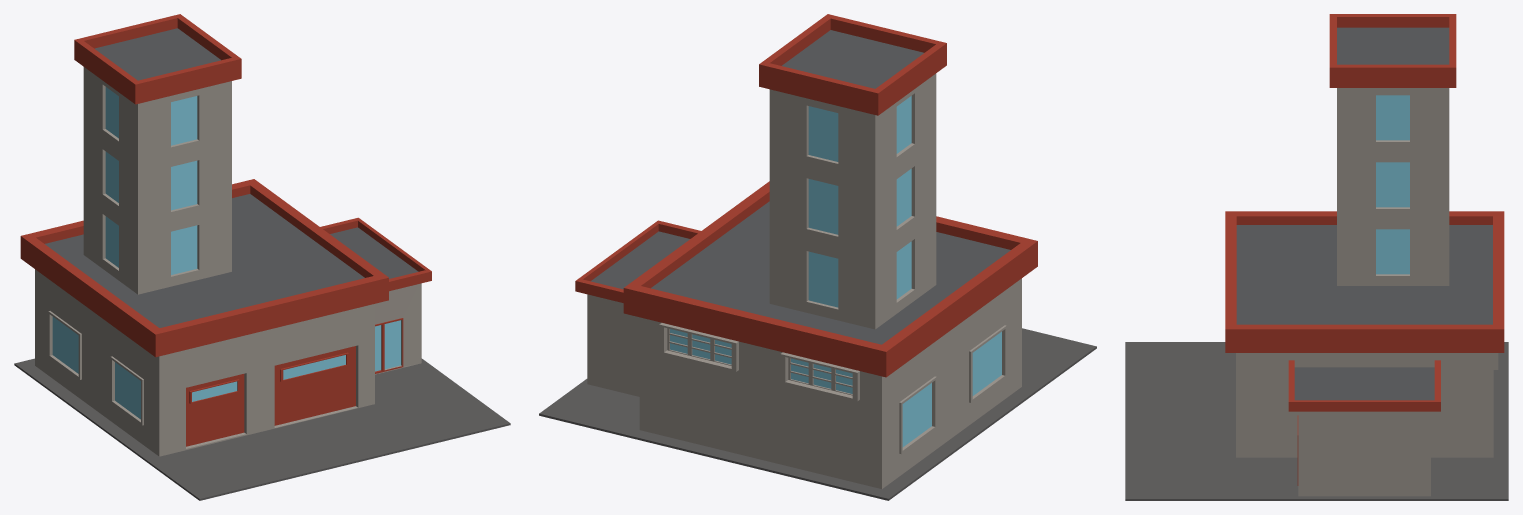
The model's file is SM_Garage_02.gltf.
3 renders of one model, left to right at view 1: azimuth 30°, elevation 25°; view 2: azimuth 150°, elevation 25°; view 3: azimuth 270°, elevation 25°, orthographic. The views are drawn at different scales.
Visible parts, largest first — view 1: SM_Garage_02; view 2: SM_Garage_02; view 3: SM_Garage_02.
Boxes of the visible parts, bbox=[...] form: SM_Garage_02: bbox=[14, 14, 510, 500]; SM_Garage_02: bbox=[539, 14, 1096, 500]; SM_Garage_02: bbox=[1125, 14, 1508, 500].
Bounding box in the file's own units: 4.02 × 4.14 × 4.15.
